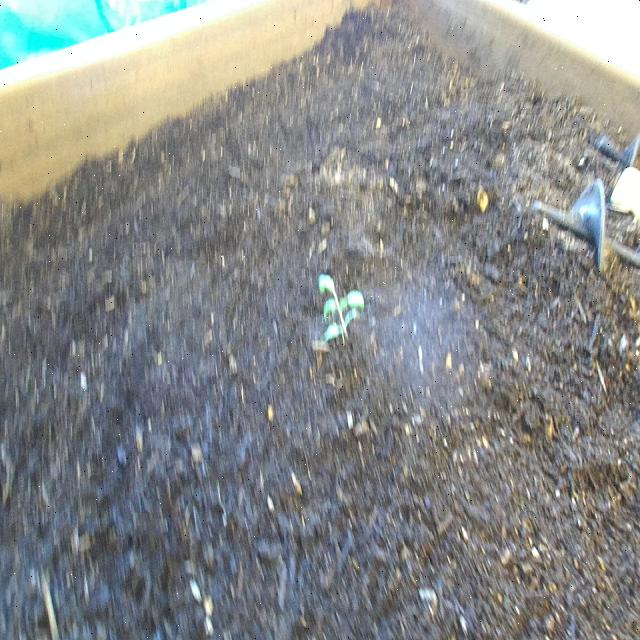Healthy: (314, 266, 368, 355)
